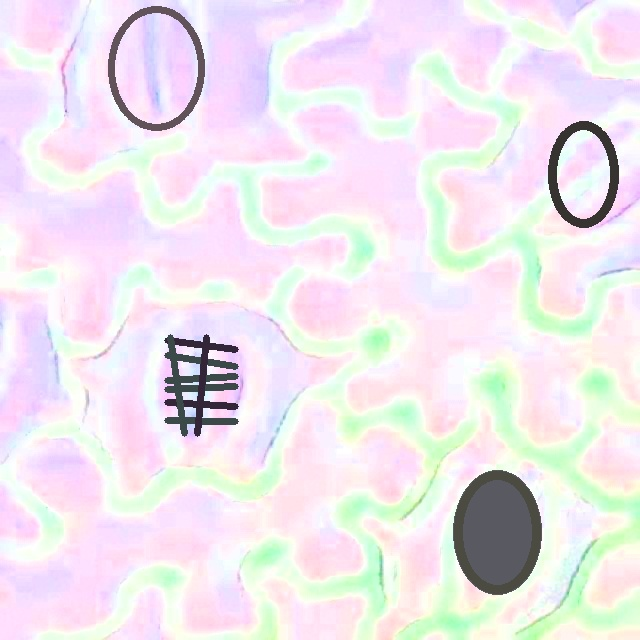open: (107, 5, 204, 132), (453, 470, 541, 594), (548, 121, 619, 228), (164, 334, 238, 436)
